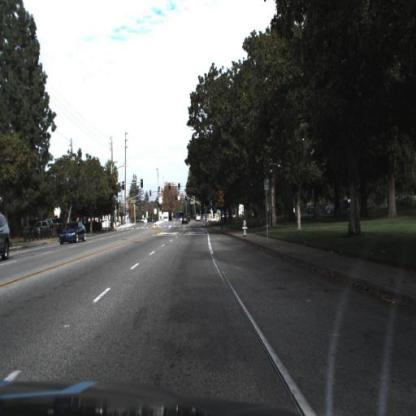car: (1, 201, 13, 265), (60, 221, 88, 246), (179, 213, 191, 229), (193, 212, 201, 226)
trafficLight-Green: (176, 182, 182, 193)
